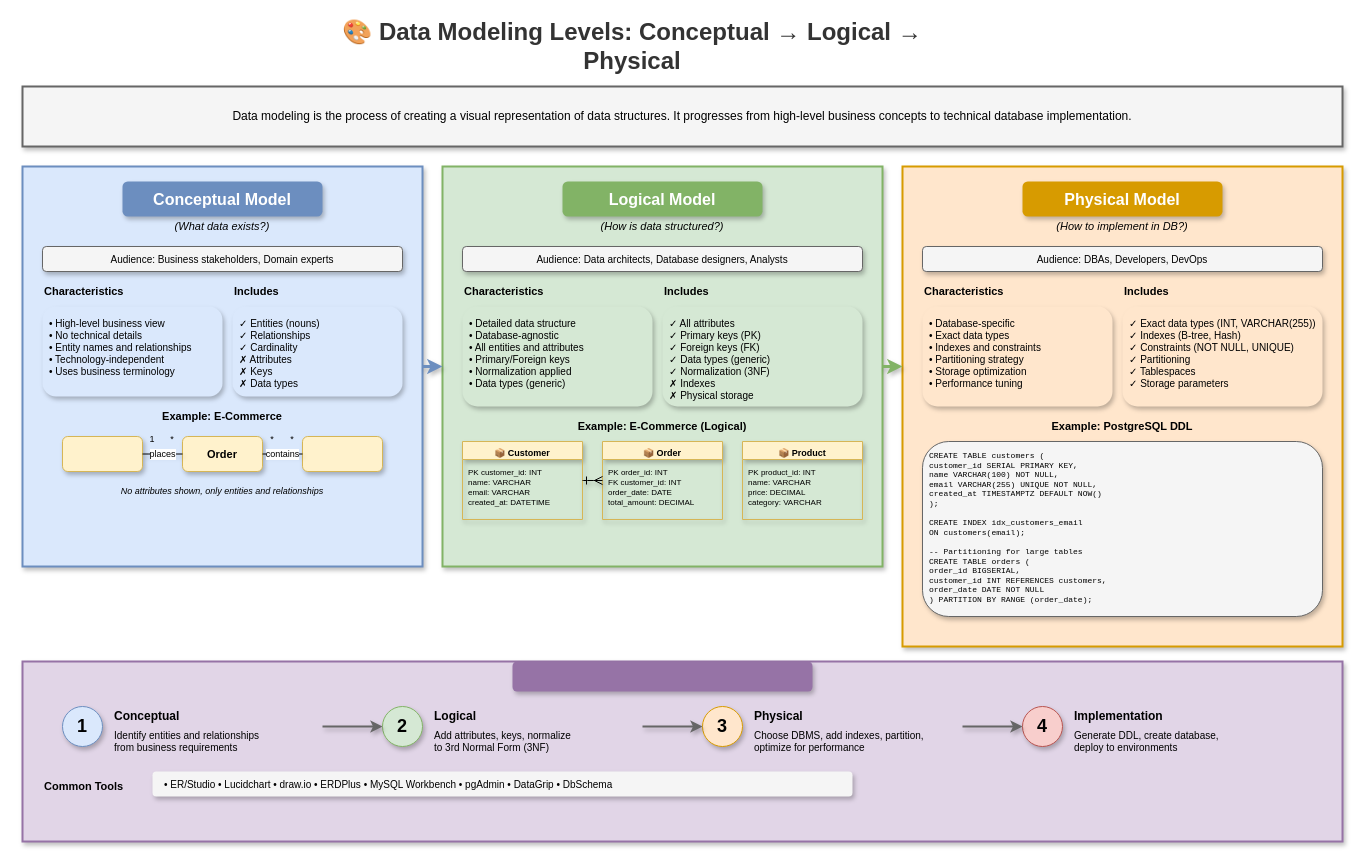
Some shapes in this 1366 by 866 pixel diagram are drawn without their labels. Each missing label, with the centre of its shape:
Customer: (x=103, y=455)
Data Modeling Progression Summary: (x=663, y=677)
Product: (x=343, y=455)
